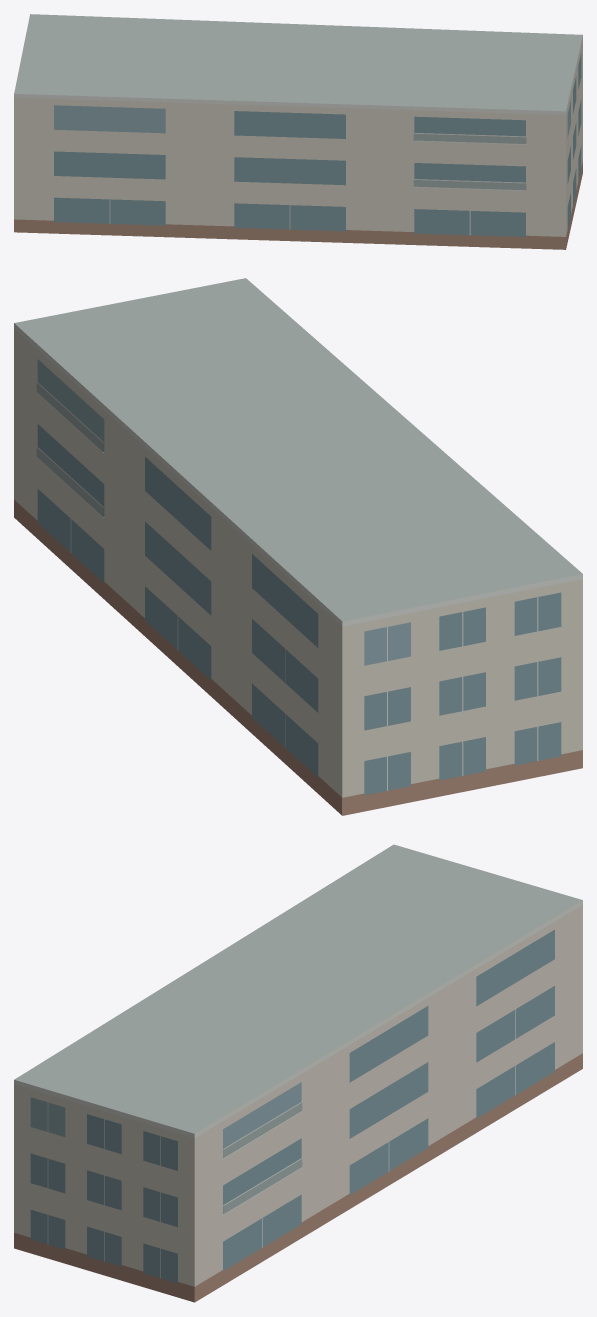
File: survey-upis-32947759.glb
3 views of the same model, one above another, from view 1: azimuth 30°, elevation 25°; view 2: azimuth 150°, elevation 25°; view 3: azimuth 270°, elevation 25° (orthographic). The views are drawn at different scales.
Visible parts, largest first — view 1: survey-upis-32947759.tmp; view 2: survey-upis-32947759.tmp; view 3: survey-upis-32947759.tmp.
Part boxes in pixels (left/top/right/bottom): survey-upis-32947759.tmp: left=14, top=14, right=582, bottom=249; survey-upis-32947759.tmp: left=14, top=278, right=582, bottom=815; survey-upis-32947759.tmp: left=14, top=844, right=582, bottom=1302.
Bounding box in the file's own units: 33.67 × 9.15 × 27.97.
